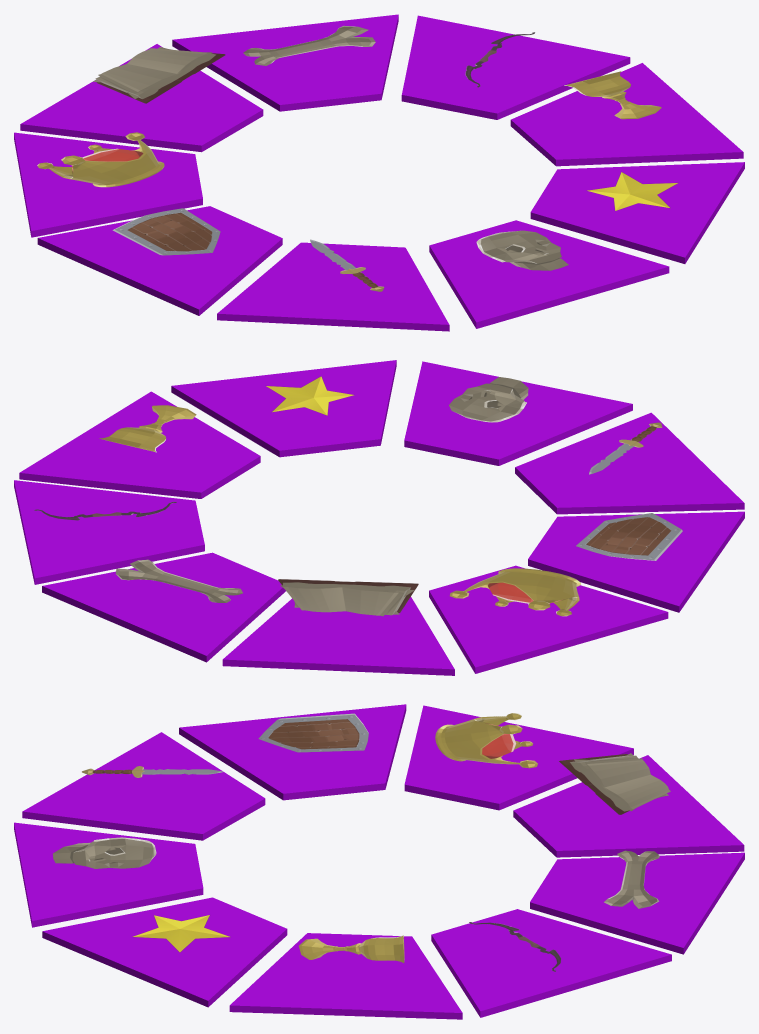
The model's file is ItemRings.glb.
The picture shows the model from 3 angles, top to bottom: view 1: azimuth 30°, elevation 25°; view 2: azimuth 150°, elevation 25°; view 3: azimuth 270°, elevation 25°; orthographic projection.
Visible parts, largest first — view 1: Circle.016, Circle.020, Circle.017, Circle.018, Circle.015, Circle.019, Circle.021, Circle.014, Circle.026, book, crown, shield (+5 smaller); view 2: Circle.016, Circle.020, Circle.015, Circle.018, Circle.017, Circle.019, Circle.014, Circle.026, Circle.021, book, crown, shield (+5 smaller); view 3: Circle.016, Circle.020, Circle.018, Circle.017, Circle.015, Circle.019, Circle.014, Circle.021, Circle.026, book, crown, shield (+5 smaller).
Part boxes in pixels (left/top/right/bottom): Circle.016: left=401, top=15, right=630, bottom=119; Circle.020: left=217, top=242, right=449, bottom=331; Circle.017: left=510, top=63, right=743, bottom=166; Circle.018: left=530, top=162, right=744, bottom=263; Circle.015: left=172, top=14, right=398, bottom=111; Circle.019: left=429, top=220, right=669, bottom=328; Circle.021: left=37, top=206, right=282, bottom=315; Circle.014: left=20, top=44, right=263, bottom=152; Circle.026: left=14, top=132, right=202, bottom=237; book: left=93, top=47, right=225, bottom=103; crown: left=37, top=132, right=164, bottom=187; shield: left=112, top=208, right=220, bottom=255; Circle.016: left=14, top=480, right=204, bottom=584; Circle.020: left=515, top=412, right=744, bottom=514; Circle.015: left=42, top=552, right=285, bottom=662; Circle.018: left=171, top=360, right=396, bottom=457; Circle.017: left=19, top=391, right=260, bottom=498; Circle.019: left=404, top=361, right=632, bottom=465; Circle.014: left=222, top=597, right=454, bottom=675; Circle.026: left=429, top=565, right=668, bottom=673; Circle.021: left=528, top=511, right=744, bottom=612; book: left=278, top=579, right=418, bottom=616; crown: left=449, top=568, right=580, bottom=616; shield: left=576, top=513, right=682, bottom=560; Circle.016: left=431, top=909, right=671, bottom=1017; Circle.020: left=22, top=732, right=265, bottom=840; Circle.018: left=42, top=897, right=287, bottom=1007; Circle.017: left=229, top=933, right=462, bottom=1019; Circle.015: left=530, top=852, right=744, bottom=954; Circle.019: left=14, top=822, right=203, bottom=927; Circle.014: left=513, top=755, right=744, bottom=857; Circle.021: left=179, top=704, right=406, bottom=800; Circle.026: left=404, top=705, right=633, bottom=810; book: left=559, top=753, right=670, bottom=814; crown: left=435, top=713, right=537, bottom=768; shield: left=258, top=713, right=368, bottom=752.
Bounding box in the file's own units: 4.75 × 0.2866 × 4.75.
Materials: 10 (9 with a texture image).
